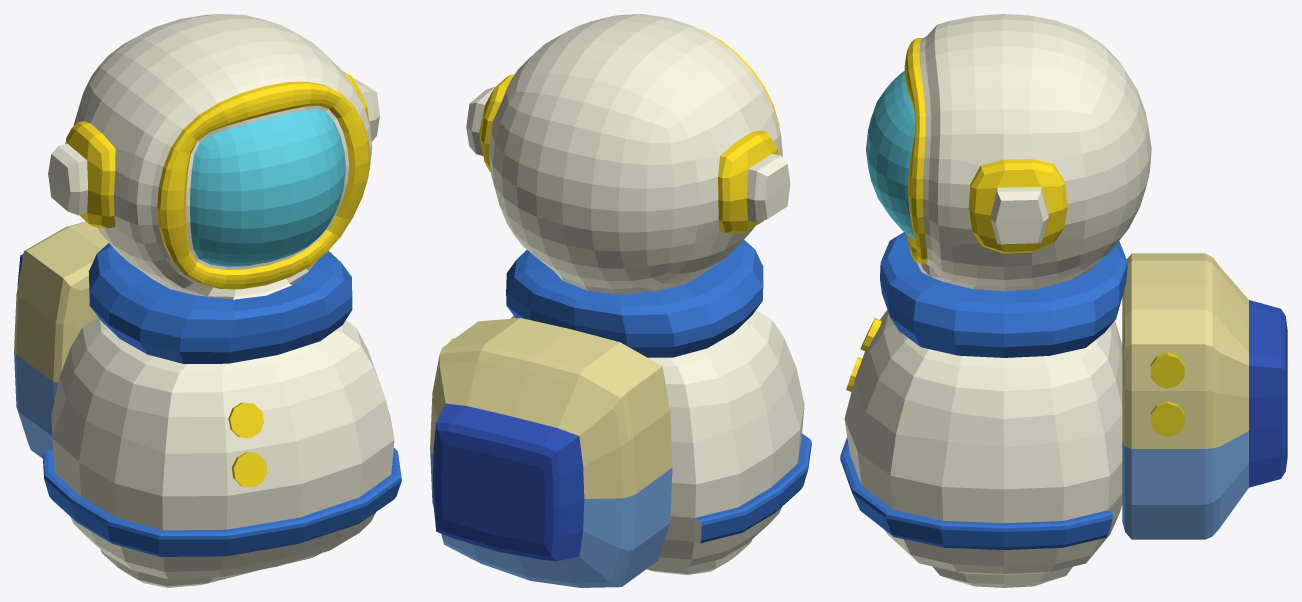
File: AstronautBody.glb
3 renders of one model, left to right at view 1: azimuth 30°, elevation 25°; view 2: azimuth 150°, elevation 25°; view 3: azimuth 270°, elevation 25°, orthographic. The views are drawn at different scales.
Visible parts, largest first — view 1: AstronautBody; view 2: AstronautBody; view 3: AstronautBody.
Boxes of the visible parts, x1,y1,x2,y2 form: AstronautBody: (14, 14, 401, 587); AstronautBody: (430, 14, 811, 587); AstronautBody: (840, 14, 1287, 587).
Size of the model in its own units: 0.5675 by 0.908 by 0.7186.
